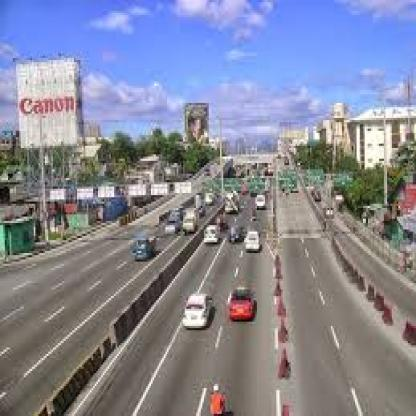car: (224, 278, 256, 328), (182, 289, 213, 335), (114, 234, 160, 265), (161, 208, 182, 250), (177, 214, 207, 242), (195, 222, 222, 250), (230, 221, 249, 254), (244, 226, 260, 262), (254, 194, 272, 218)
